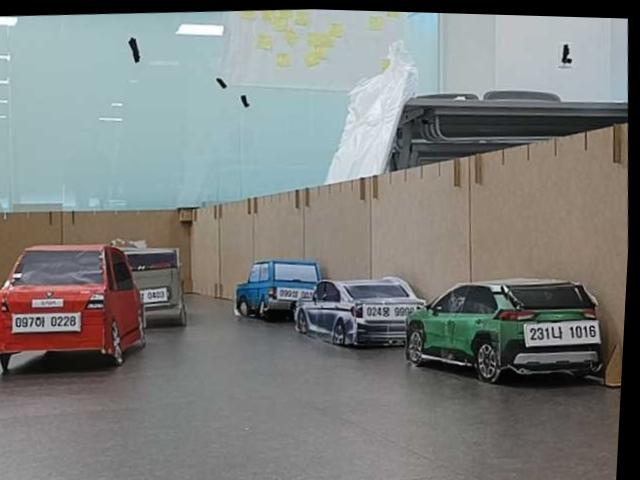car: (402, 270, 611, 392), (0, 238, 154, 373), (292, 271, 432, 353), (111, 241, 192, 331), (232, 255, 325, 324)
id: (523, 320, 602, 347), (11, 312, 82, 335), (363, 300, 421, 323), (277, 286, 317, 302), (137, 287, 169, 303)
